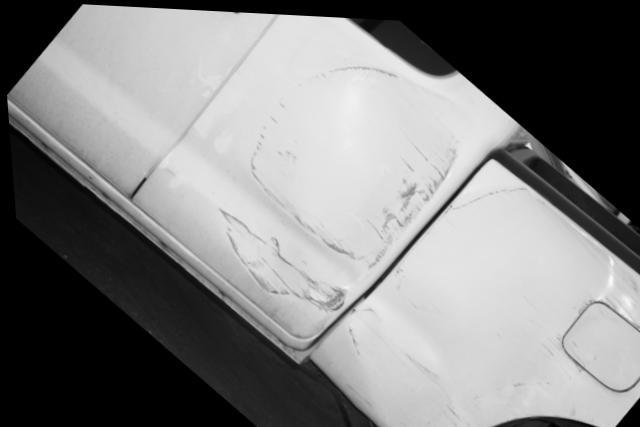scratch: (248, 55, 463, 265), (211, 202, 344, 309), (562, 214, 640, 324), (405, 343, 460, 427), (338, 300, 375, 351)
